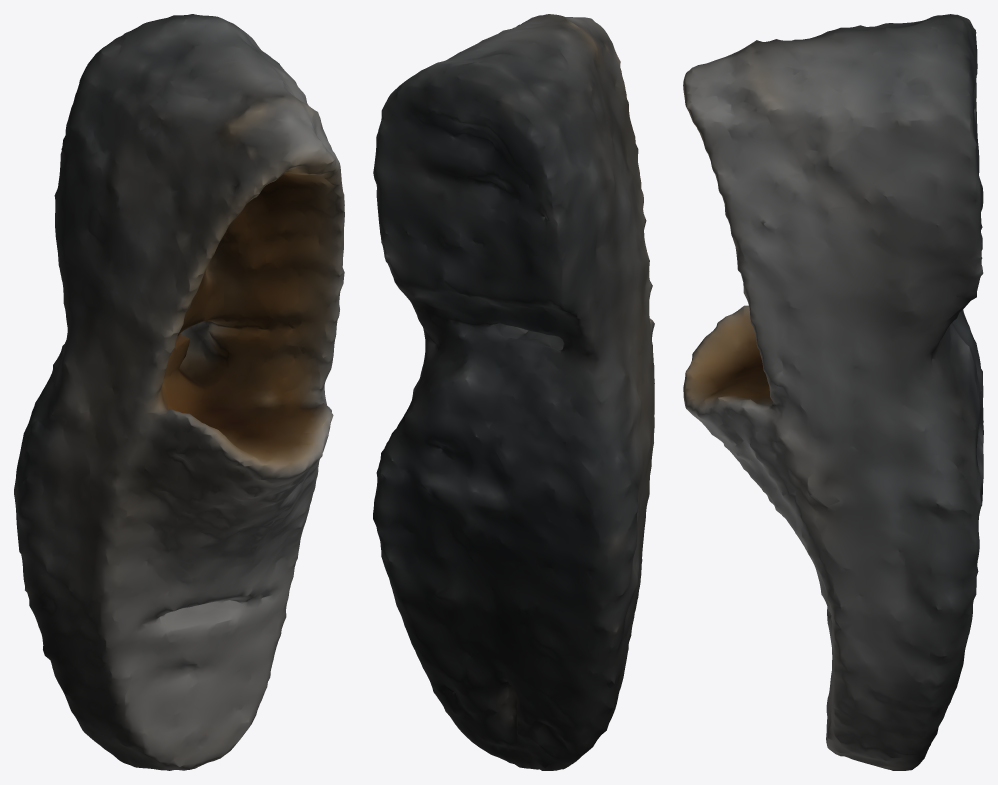
Rendered from leather.glb.
3 views of the same model, side by side, from view 1: azimuth 30°, elevation 25°; view 2: azimuth 150°, elevation 25°; view 3: azimuth 270°, elevation 25° (orthographic). The views are drawn at different scales.
Size of the model in its own units: 0.3656 by 0.9942 by 0.3612.
